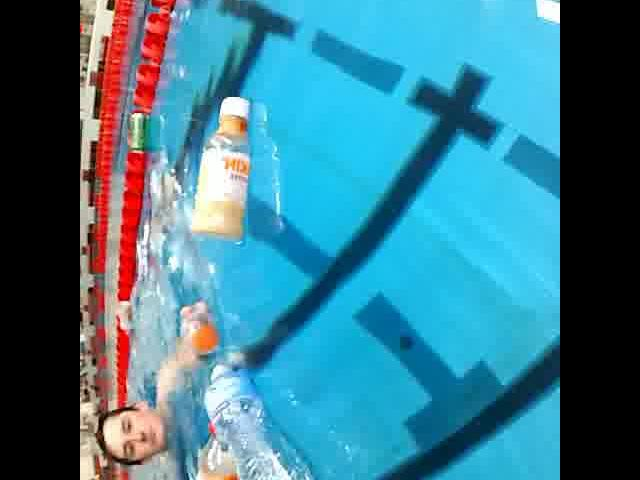Bottle: (202, 355, 322, 480), (182, 90, 262, 244), (194, 410, 246, 480)
Can: (125, 105, 156, 159)
